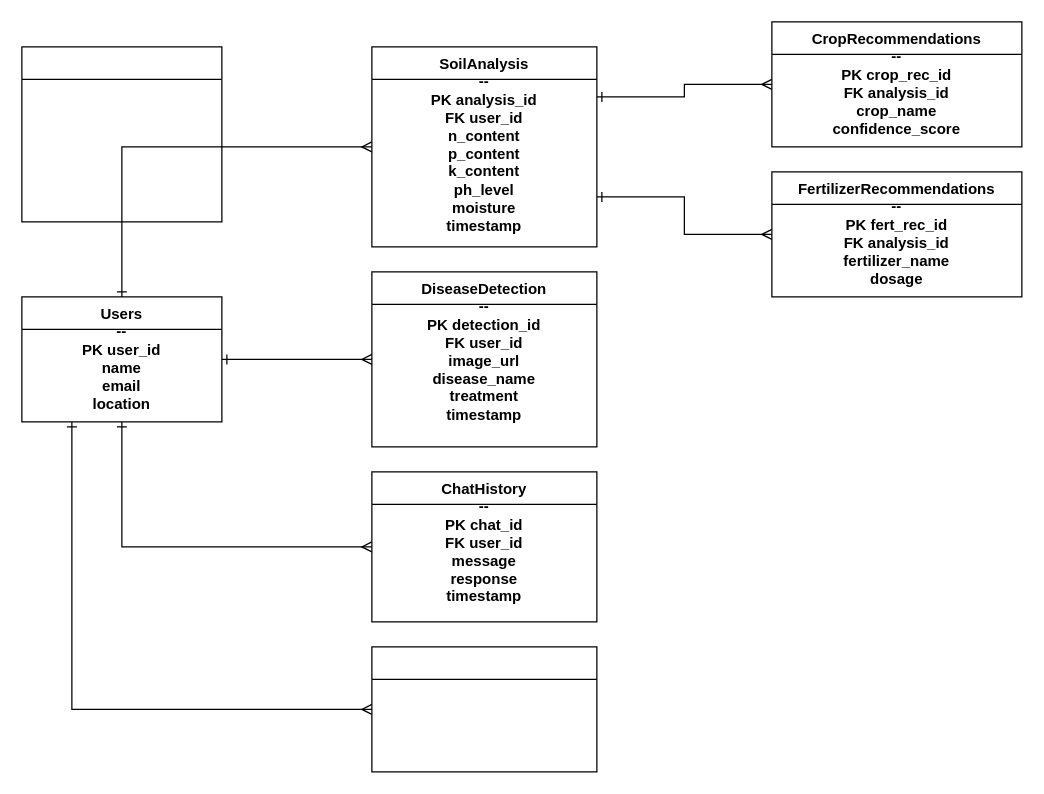
Some shapes in this 1044 by 794 pixel diagram are drawn without their labels. Each missing label, with the centre of its shape:
"Reports -- PK report_id FK user_id content generated_at" belongs at point (484, 709).
"WeatherData -- PK weather_id location temperature humidity rainfall timestamp" belongs at point (121, 134).
